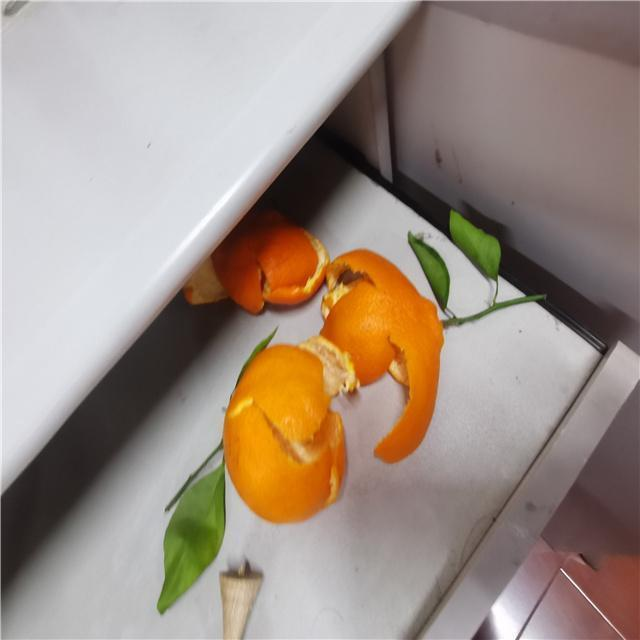orange peel: (322, 249, 444, 465), (223, 338, 348, 524), (214, 208, 330, 315)
